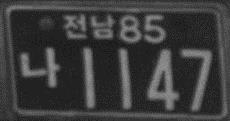1: (80, 44, 98, 110), (117, 46, 134, 111)
4: (145, 47, 180, 112)
5: (142, 12, 166, 44)
7: (179, 47, 213, 114)
8: (119, 14, 141, 44)
나: (18, 46, 61, 88)
전남_O: (62, 11, 115, 41)
